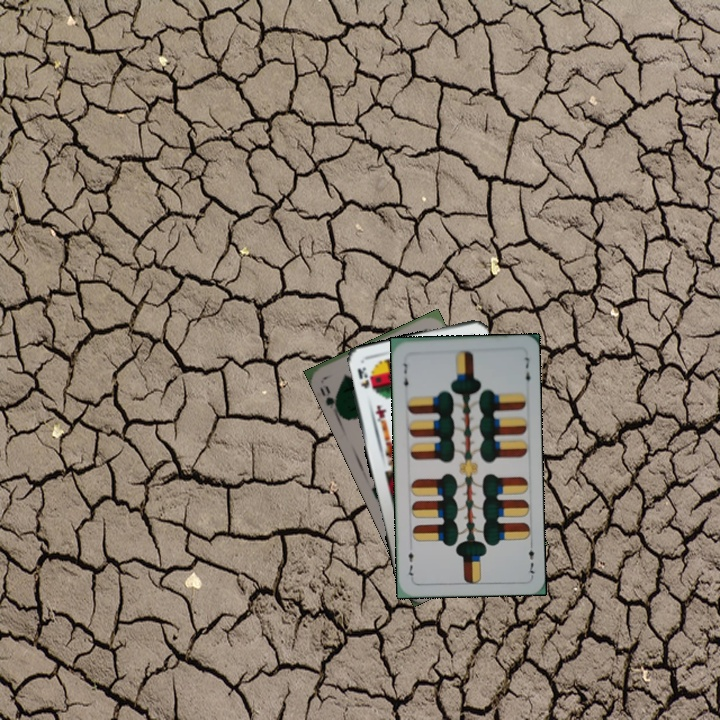E7: (524, 538, 537, 578), (399, 359, 411, 393)
GO: (315, 380, 342, 416)
SK: (353, 363, 372, 391)
